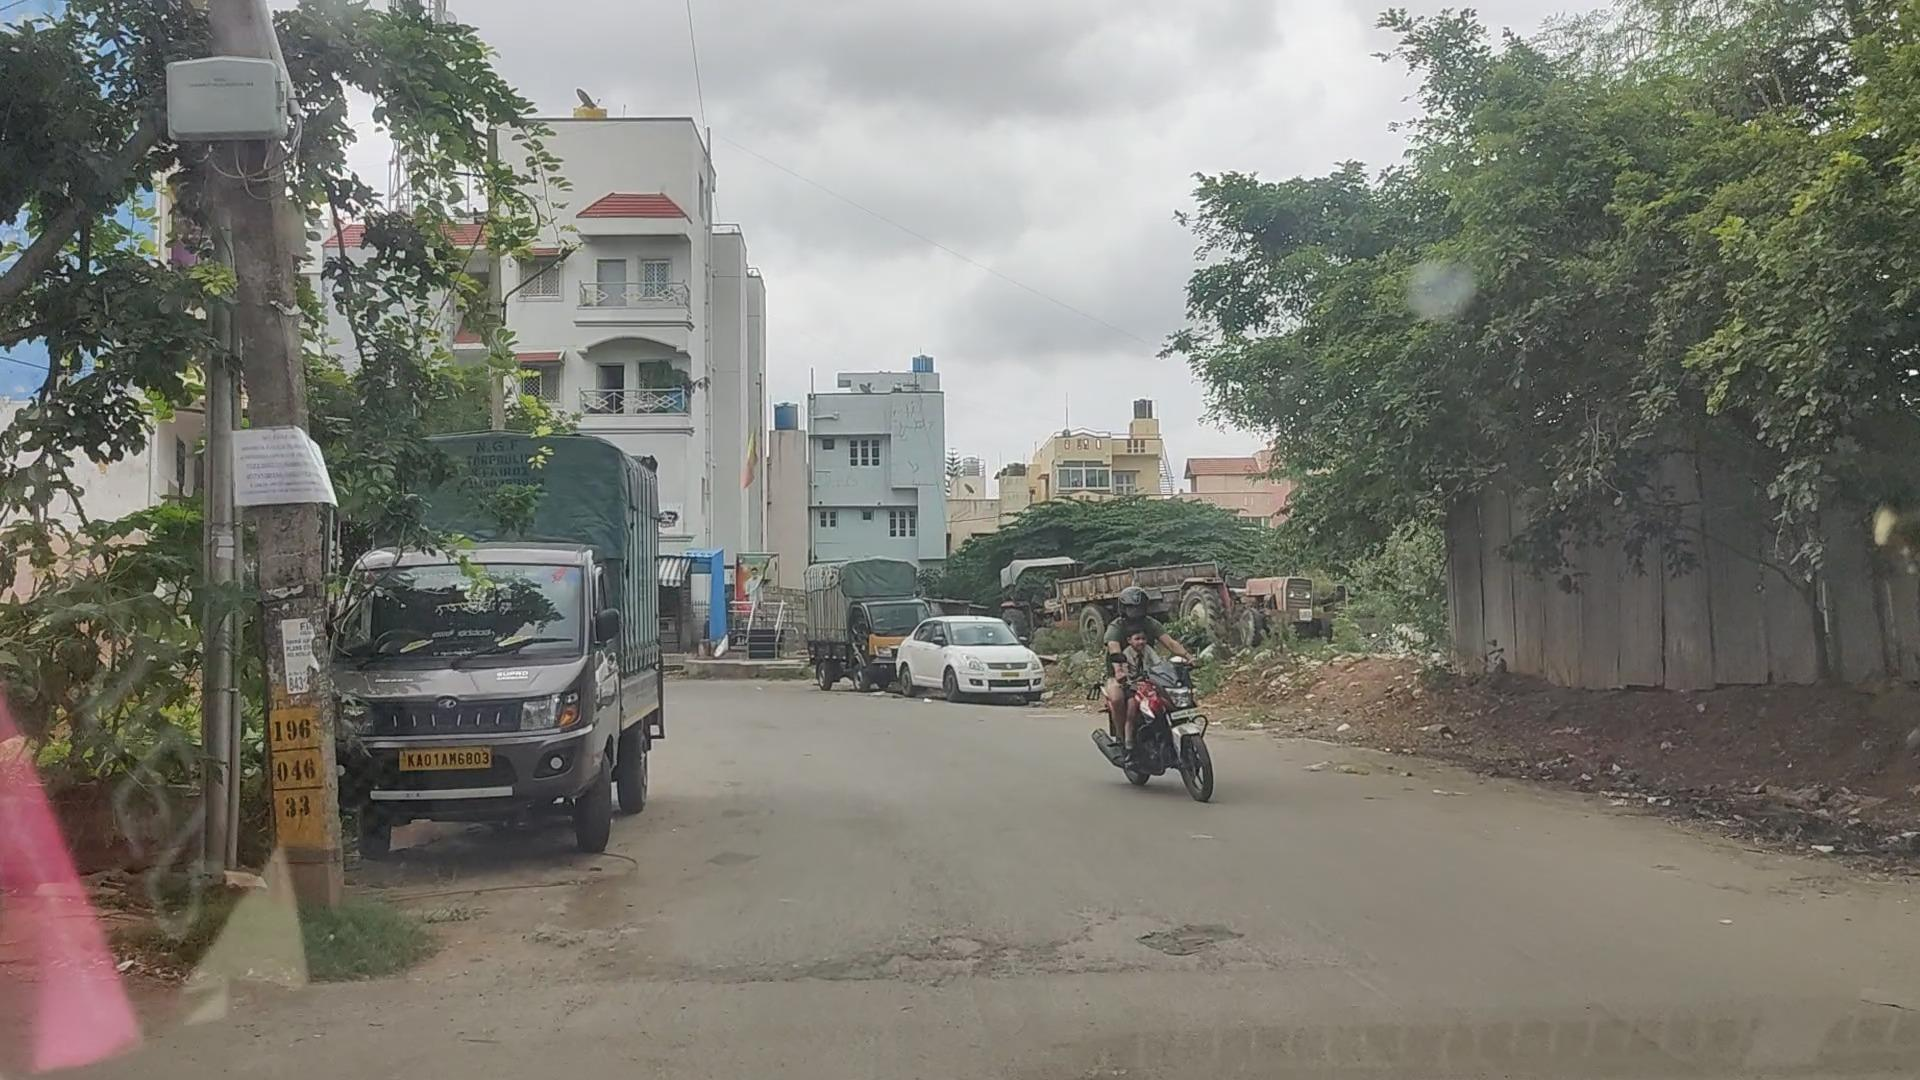LMV: (1096, 591, 1217, 796)
RoadDamages: (669, 924, 1050, 996), (1105, 901, 1246, 969)
